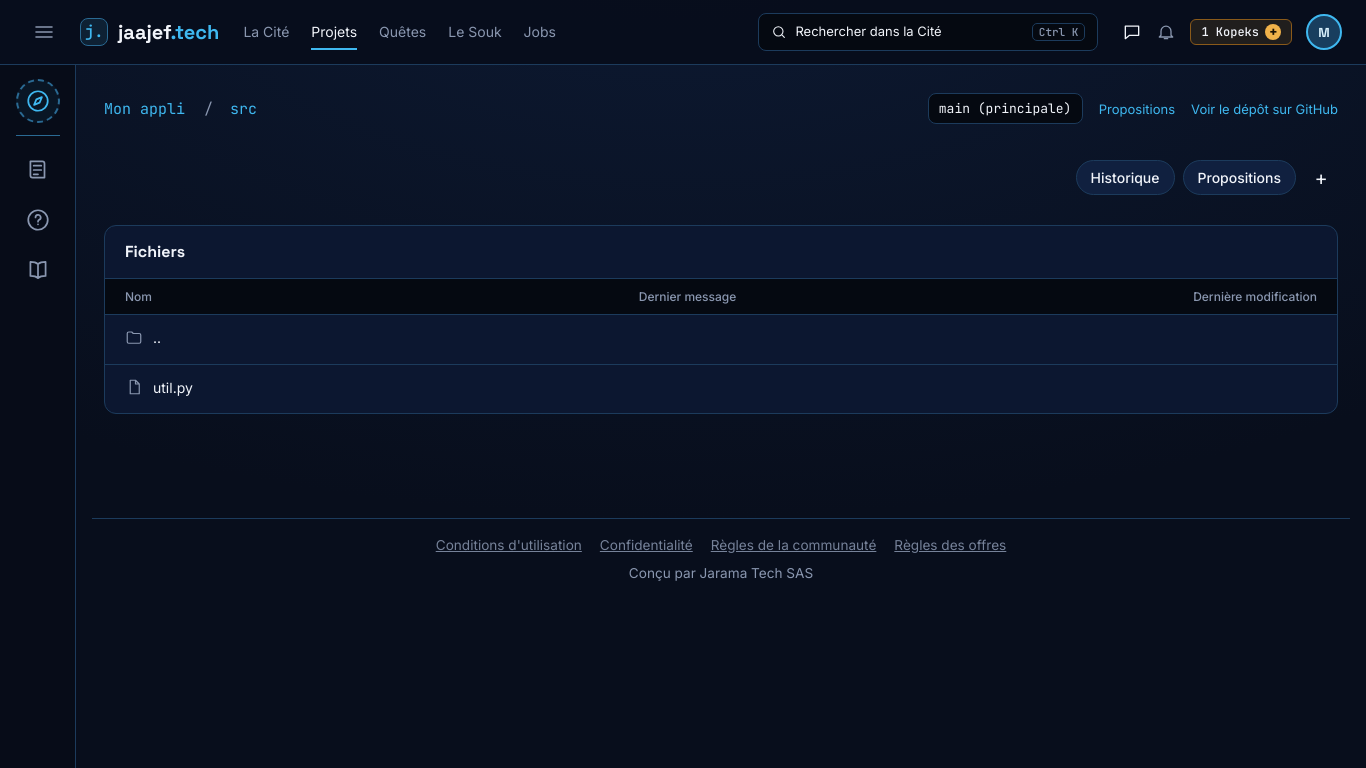
Test: Repository: the list of files › refuses bad or existing names for a new file, and opens a valid one
Click the button named "Ajouter". click: coordinates (1321, 178)
box: x1=1304 y1=160 x2=1338 y2=194
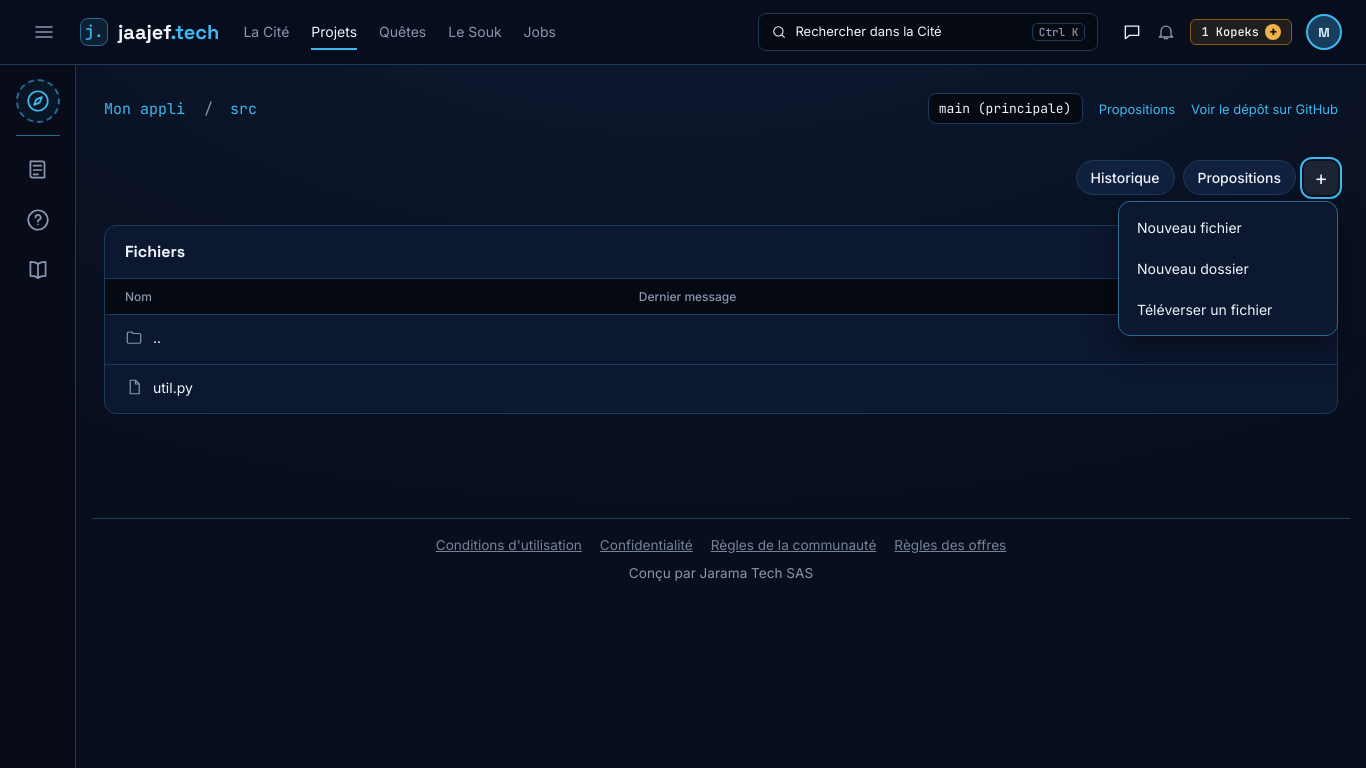
Click the menu item "Nouveau fichier". click: coordinates (1228, 227)
box: x1=1125 y1=208 x2=1331 y2=246
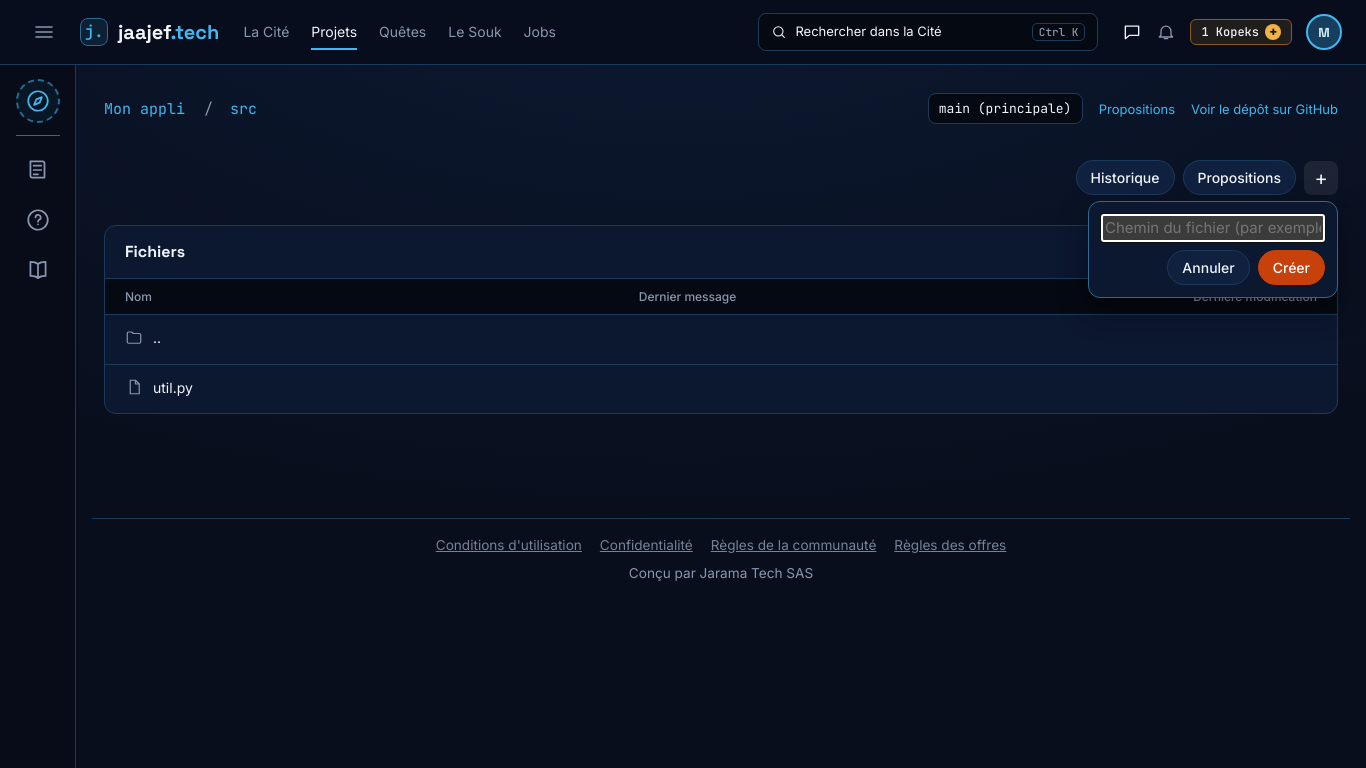
Type "../x.py" into the field labelled "Chemin du fichier (par exemple src/app.py)". click: coordinates (1213, 228)
box: x1=1101 y1=214 x2=1325 y2=242
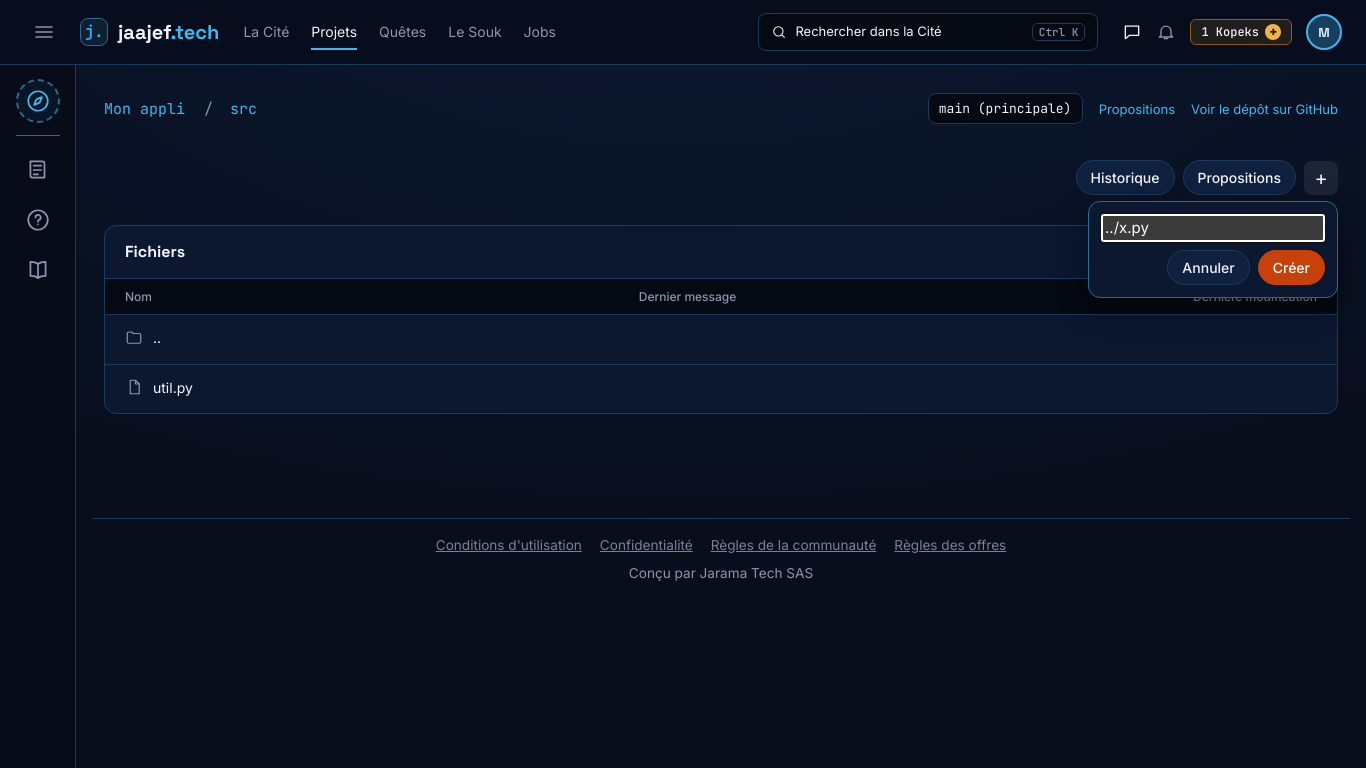
Click the button "Créer". click: coordinates (1291, 268)
box: x1=1258 y1=250 x2=1325 y2=285
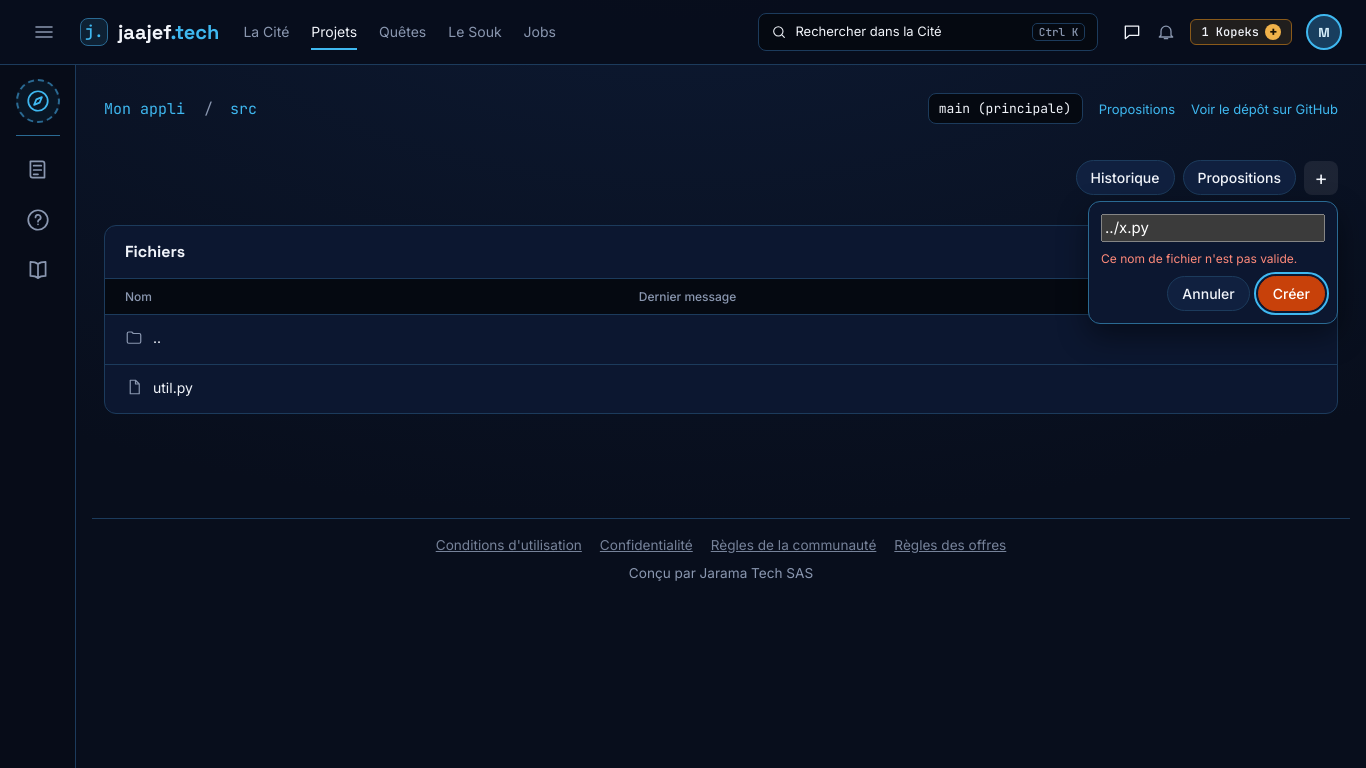
Expected: the message shows "n'est pas valide", x1=1101 y1=251 x2=1297 y2=266
Replace the text in the field named "Chemin du fichier" with "util.py". click: coordinates (1213, 228)
box: x1=1101 y1=214 x2=1325 y2=242
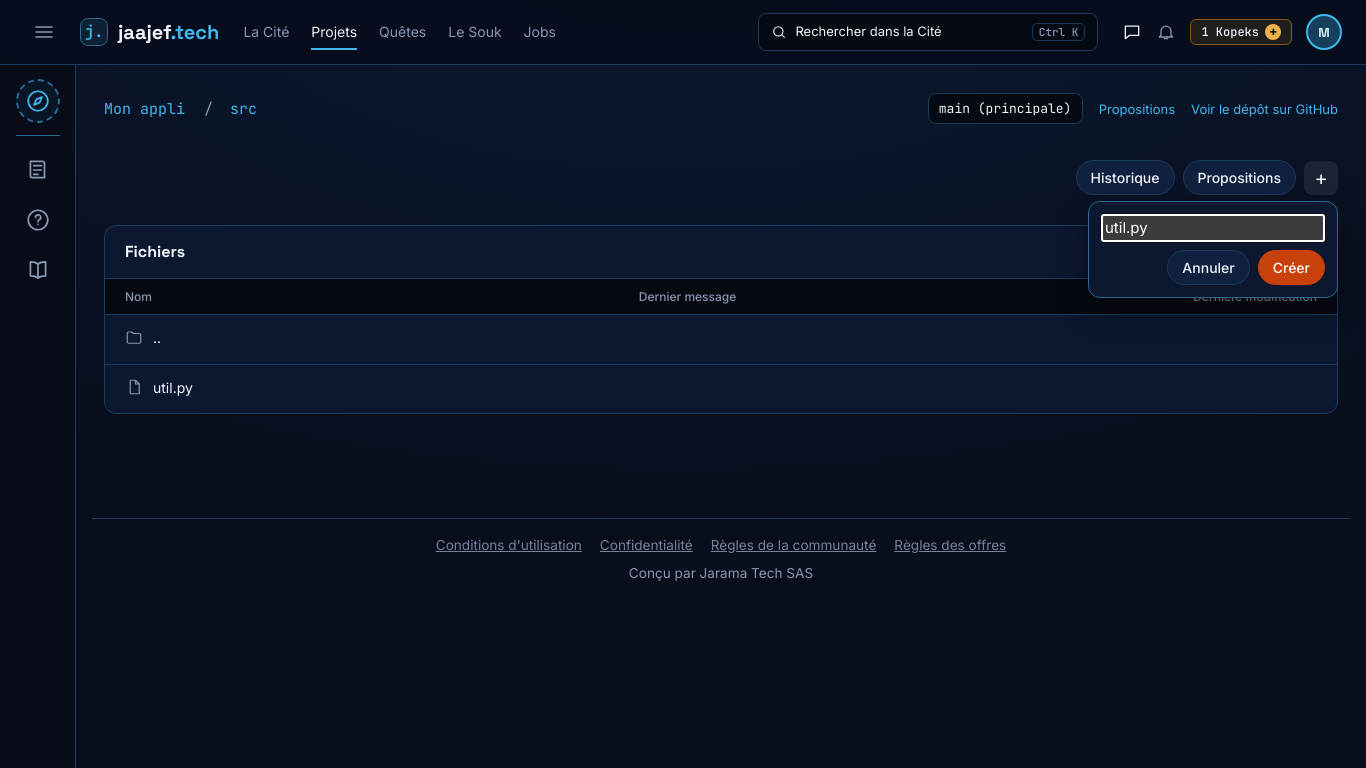
Click the button "Créer". click: coordinates (1291, 268)
box: x1=1258 y1=250 x2=1325 y2=285
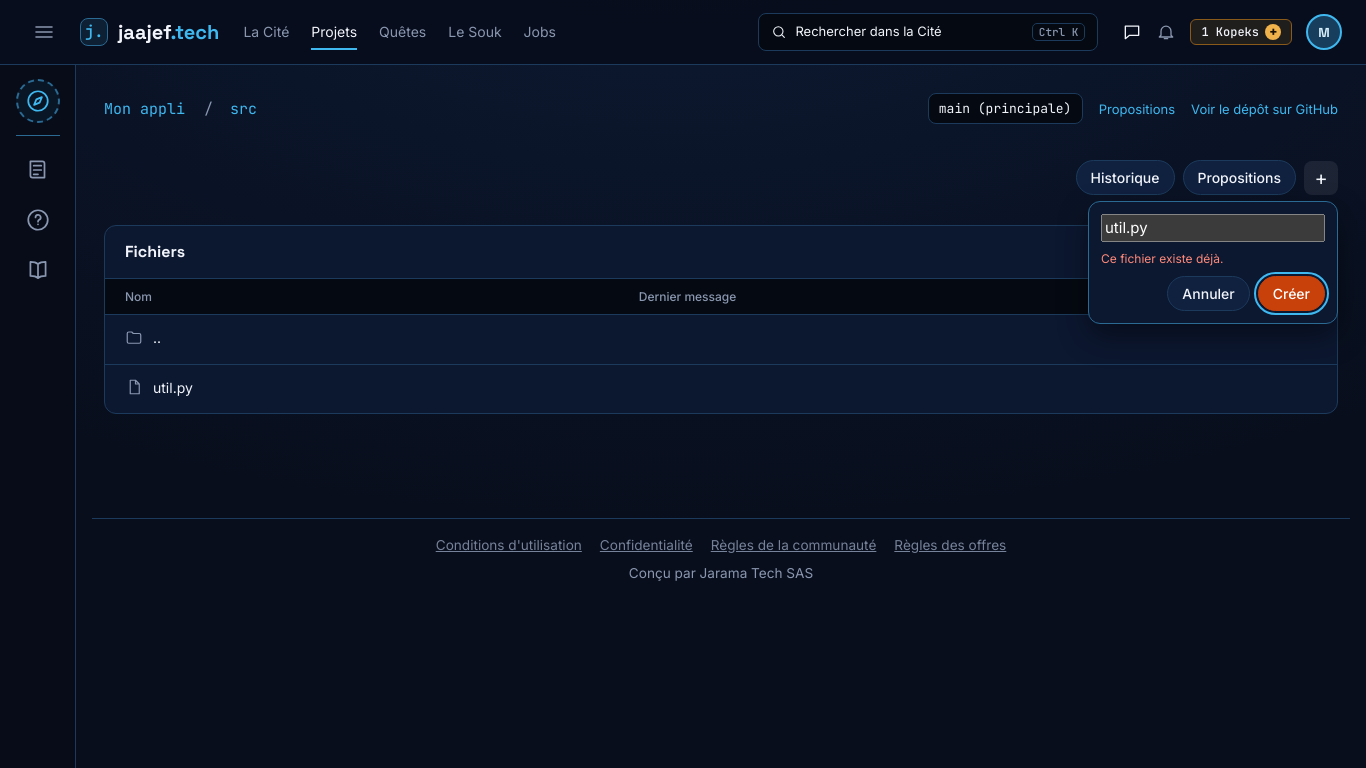
Expected: the message shows "existe déjà", x1=1101 y1=251 x2=1223 y2=266
